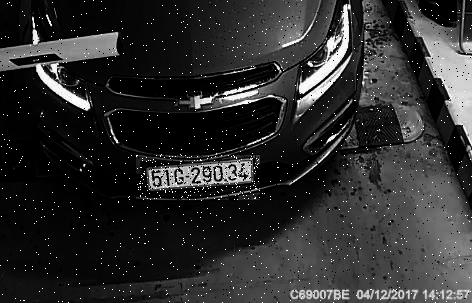License-plate: (137, 156, 261, 201)
